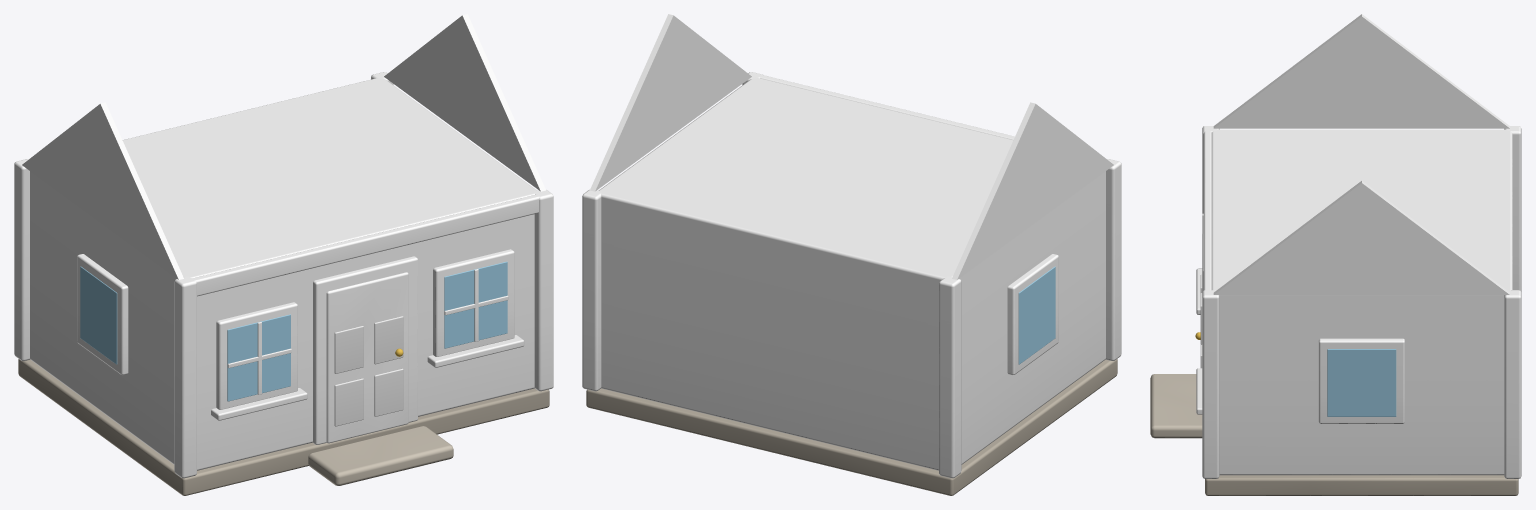
The model's file is house_body_gable.glb.
The picture shows the model from 3 angles, left to right: view 1: azimuth 30°, elevation 25°; view 2: azimuth 150°, elevation 25°; view 3: azimuth 270°, elevation 25°; orthographic projection. The views are drawn at different scales.
Parts seen in each view (by area): view 1: house_body_gable_house_wall, house_body_gable_house_trim, house_body_gable_house_stone, house_body_gable_house_door, house_body_gable_house_glass; view 2: house_body_gable_house_wall, house_body_gable_house_trim, house_body_gable_house_stone, house_body_gable_house_glass; view 3: house_body_gable_house_wall, house_body_gable_house_trim, house_body_gable_house_stone, house_body_gable_house_glass, house_body_gable_house_door.
Part boxes in pixels (<box>): house_body_gable_house_wall: <box>22,14,545,470</box>; house_body_gable_house_trim: <box>14,72,553,478</box>; house_body_gable_house_stone: <box>18,359,549,495</box>; house_body_gable_house_door: <box>326,272,408,443</box>; house_body_gable_house_glass: <box>80,261,507,401</box>; house_body_gable_house_wall: <box>590,14,1113,470</box>; house_body_gable_house_trim: <box>582,72,1121,478</box>; house_body_gable_house_stone: <box>586,359,1117,495</box>; house_body_gable_house_glass: <box>1018,266,1055,364</box>; house_body_gable_house_wall: <box>1211,14,1512,475</box>; house_body_gable_house_trim: <box>1196,126,1521,478</box>; house_body_gable_house_stone: <box>1150,374,1518,495</box>; house_body_gable_house_glass: <box>1327,349,1396,416</box>; house_body_gable_house_door: <box>1195,233,1203,368</box>.
Size of the model in its own units: 2.82 by 2.41 by 2.58.
